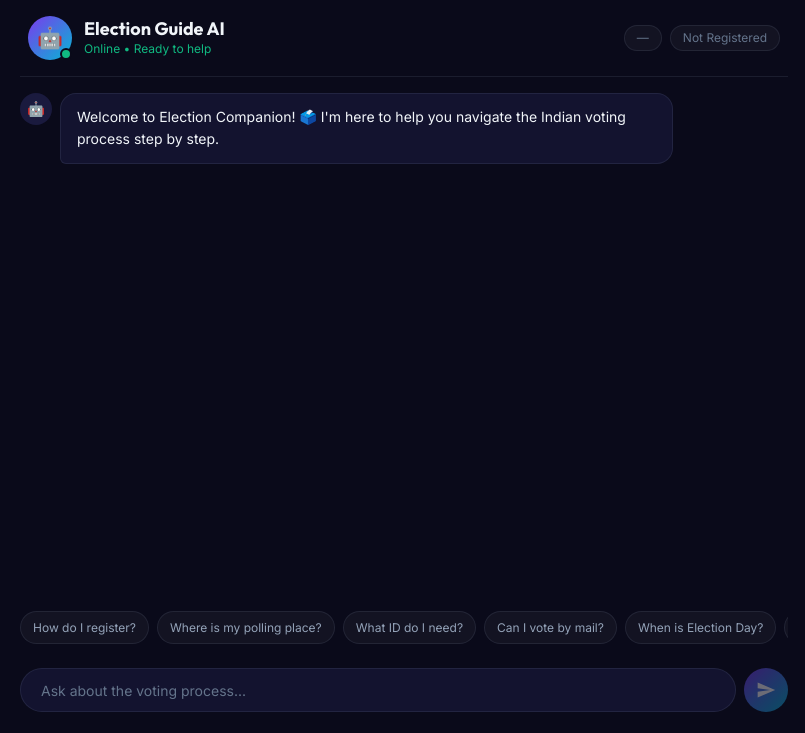
Test: Chat Component › send button enables when text is entered
The image size is (805, 733).
Type "Hello" into the field named "Type your question". click: (378,690)
box: [20,668,736,712]
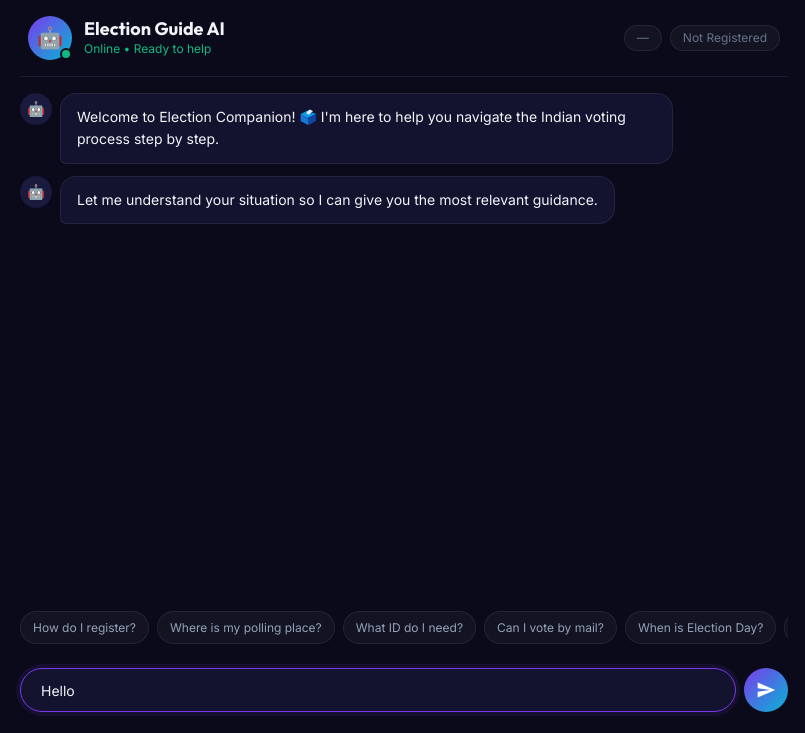
Expected: the button named "Send message" is enabled, [744,668,788,712]
